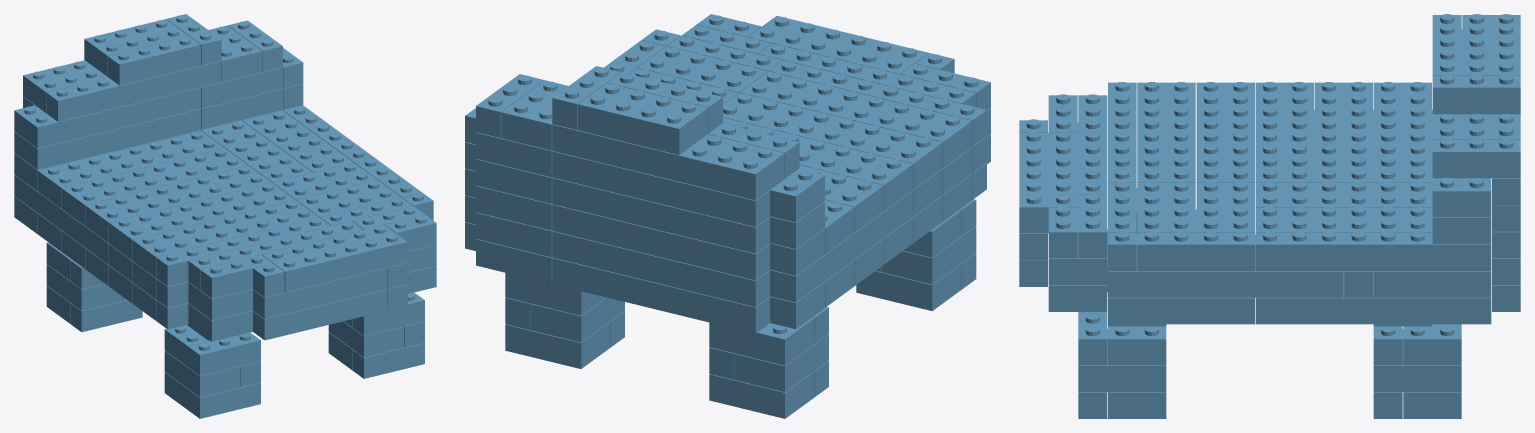
File: 025_bed_L5.glb
3 renders of one model, left to right at view 1: azimuth 30°, elevation 25°; view 2: azimuth 150°, elevation 25°; view 3: azimuth 270°, elevation 25°, orthographic. The views are drawn at different scales.
Size of the model in its own units: 12.98 by 11.13 by 16.98.
